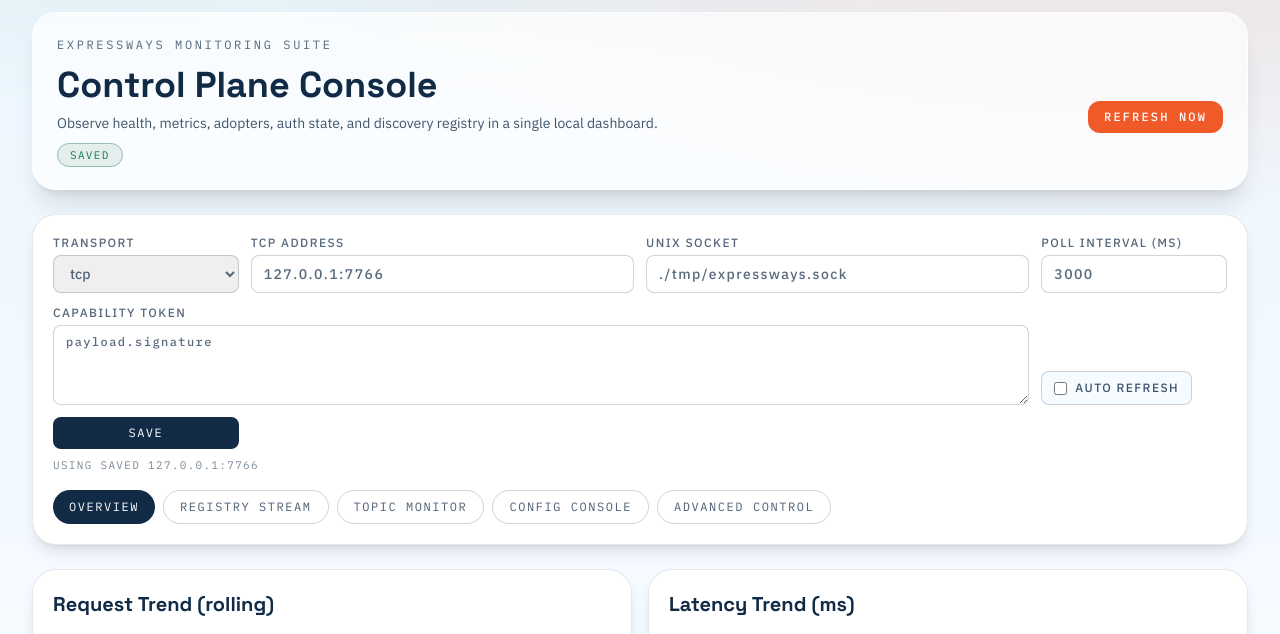
Scenario: Config Console Integration › provisions packaged credentials for an explicitly selected bundle without displaying secrets
The image size is (1280, 634).
Click the button "Config Console" at [571, 506], box [492,490,649,524]
(page scrolled)
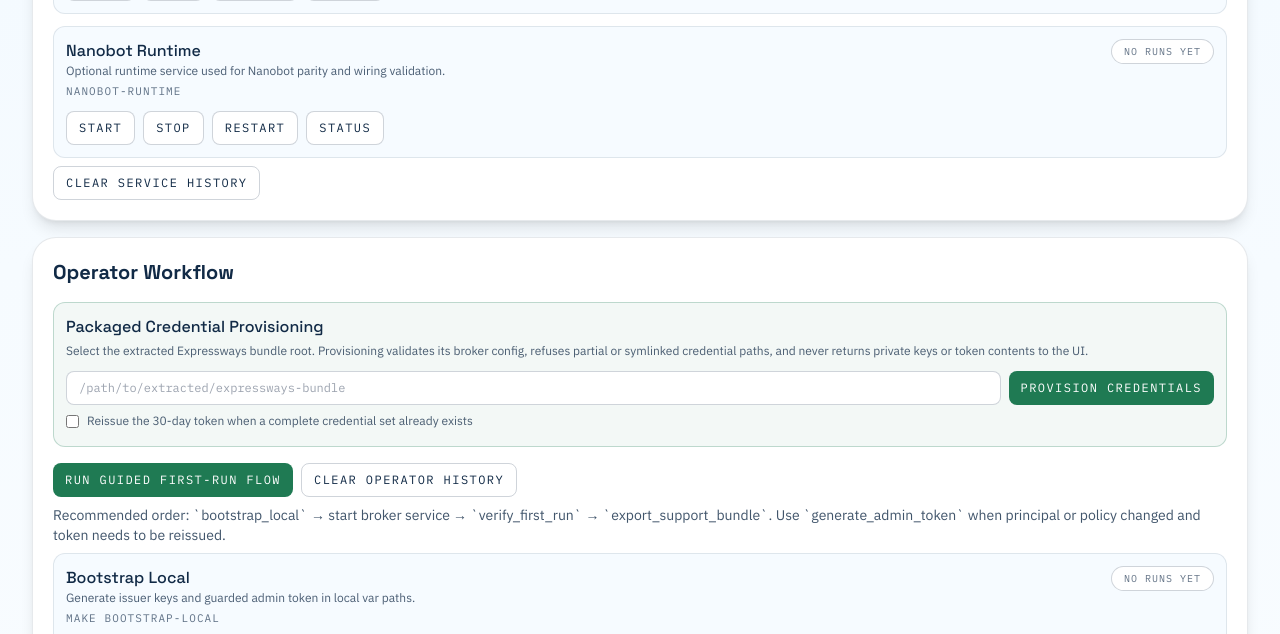
Type "/opt/expressways" into the field named "Expressways bundle root" at [533, 388], box [66,371,1000,405]
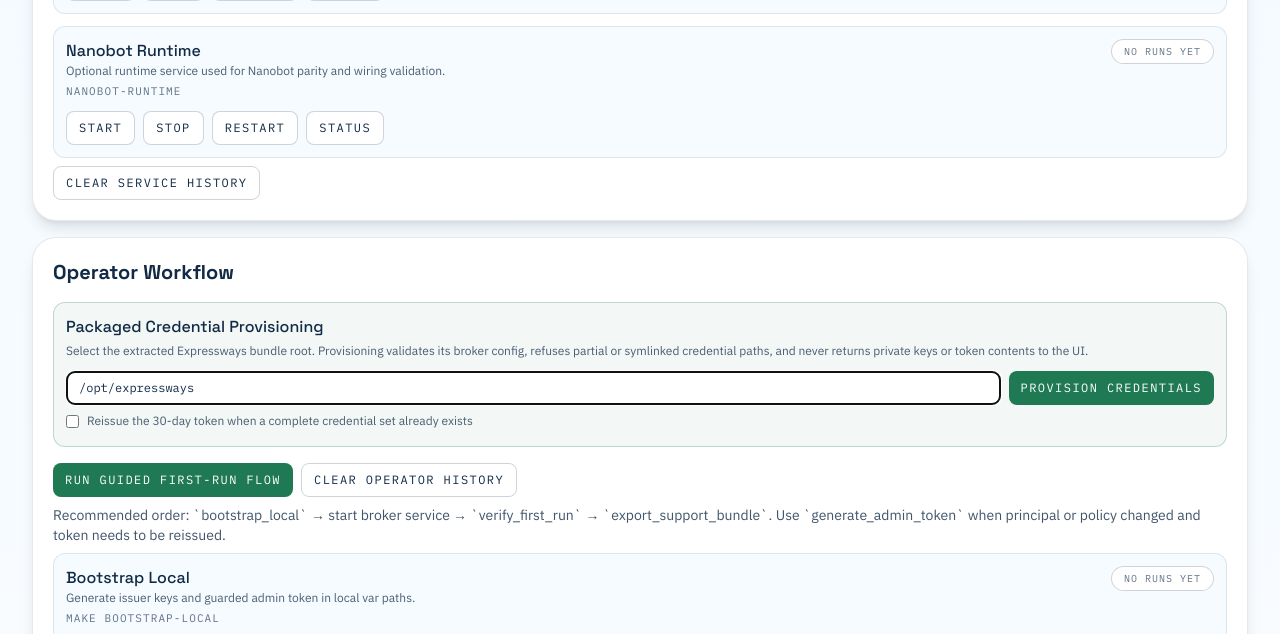
Click the button "Provision Credentials" at [1111, 388], box [1008,371,1214,405]
(page scrolled)
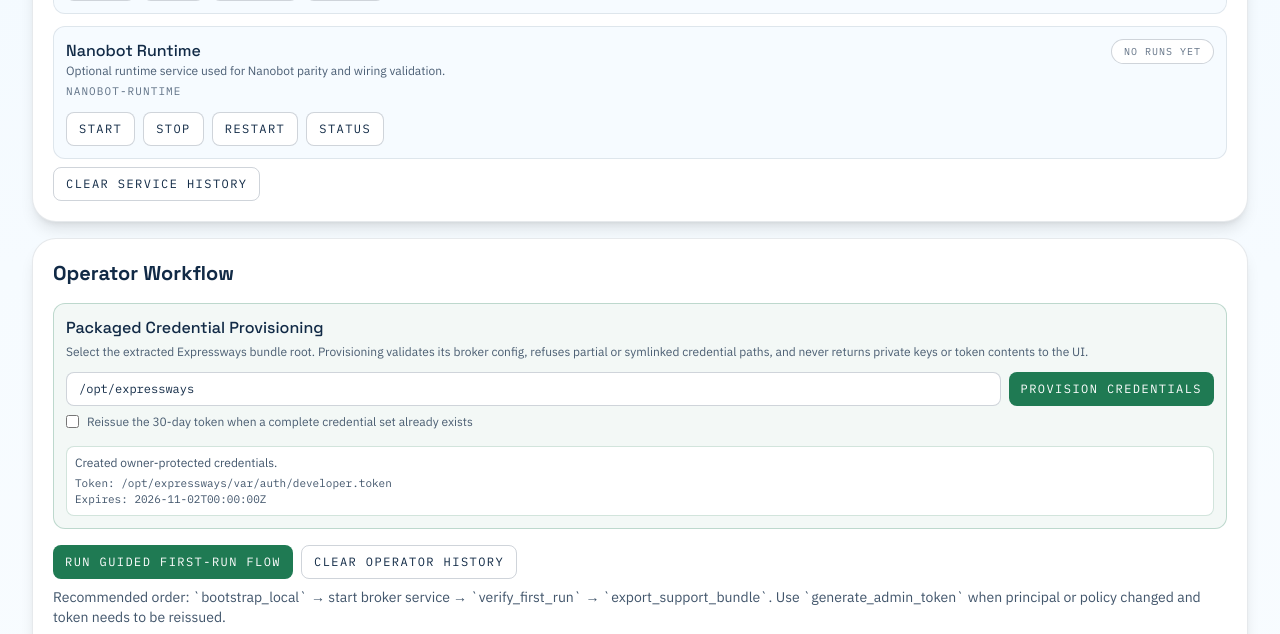
Now the text "Token: /opt/expressways/var/auth/developer.token" is shown, box [75,476,392,490]
